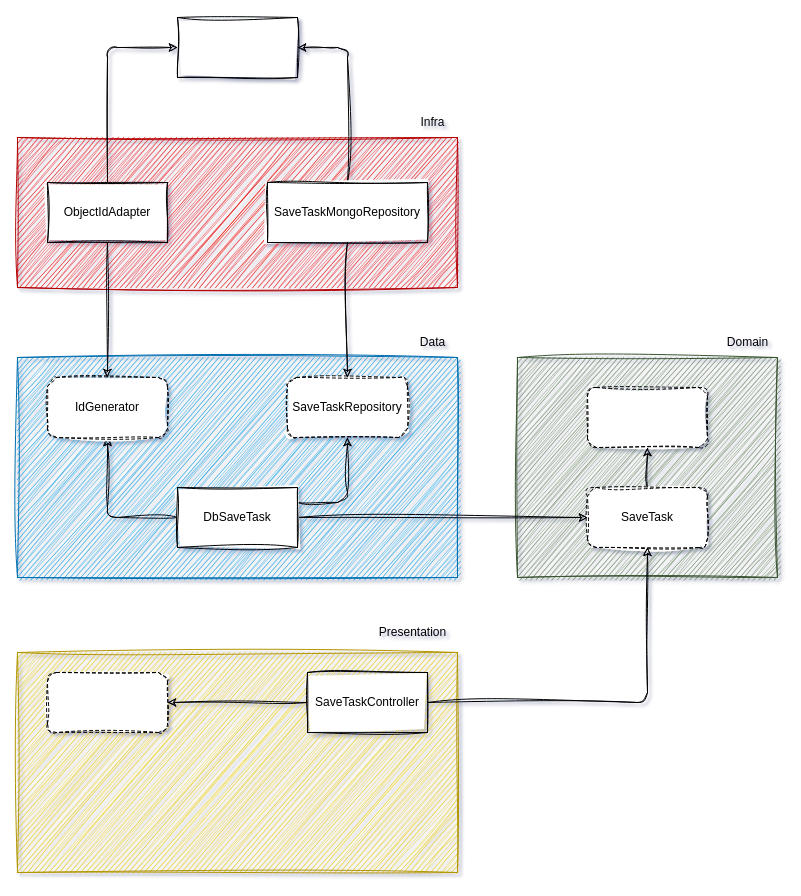
Some shapes in this 801 by 896 pixel diagram are drawn without their labels. The centre of each missing label's shape, as x and y in pixels:
"Controller" belongs at (x=107, y=702).
"MongoDB" belongs at (x=237, y=47).
"Task" belongs at (x=647, y=417).
